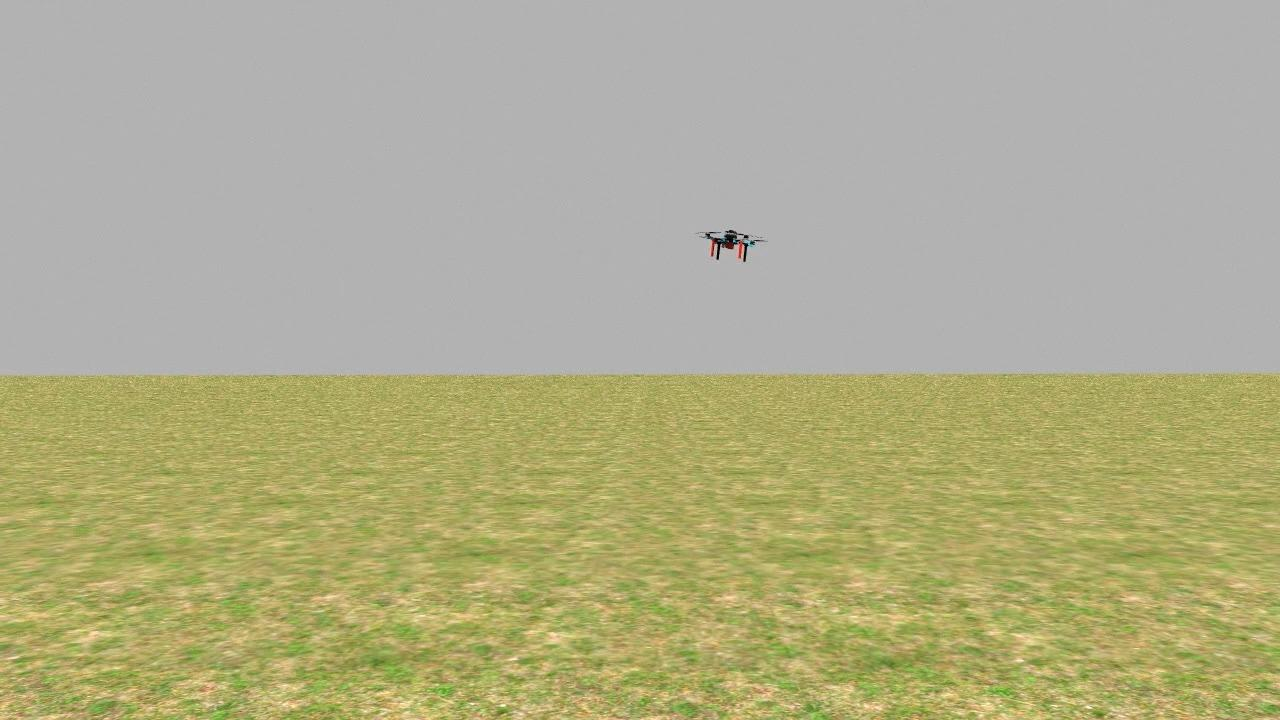UAV: (687, 219, 770, 270)
